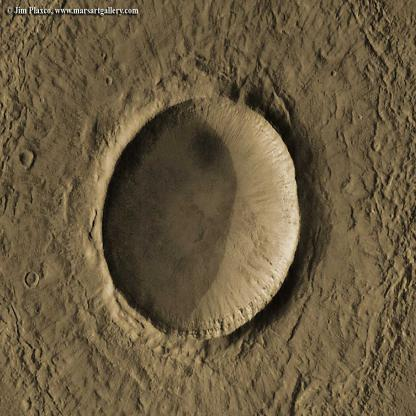craters: (76, 73, 321, 363), (14, 145, 43, 179), (21, 267, 45, 294), (102, 72, 121, 93)
